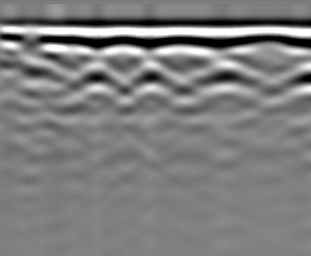pipe: (12, 27, 50, 56)
steel: (202, 64, 261, 102), (74, 63, 119, 100), (131, 67, 169, 102)
